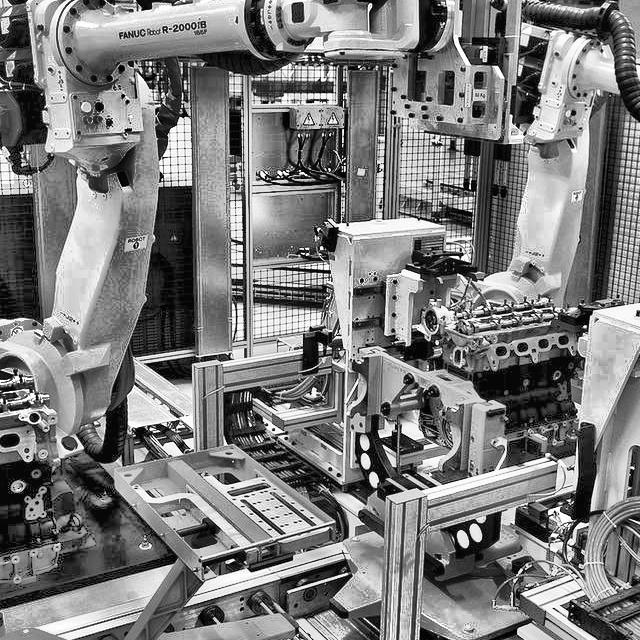robot: (0, 0, 390, 469), (447, 0, 640, 359)
